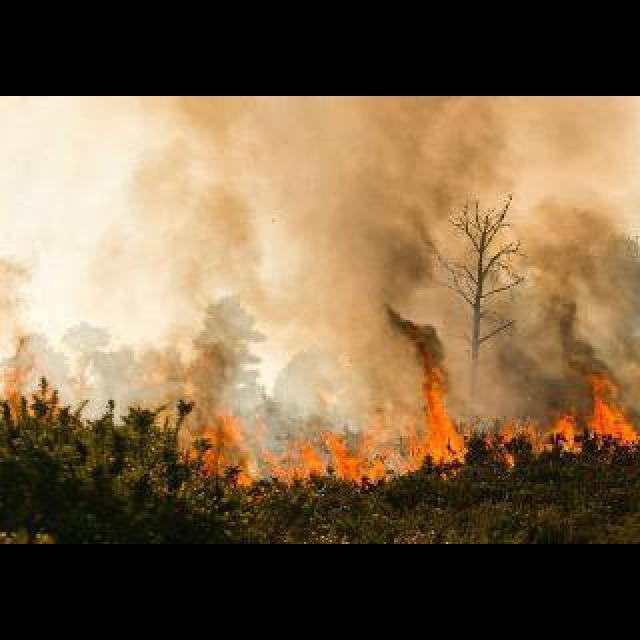fire: (100, 96, 639, 373)
smoke: (174, 386, 626, 492)
